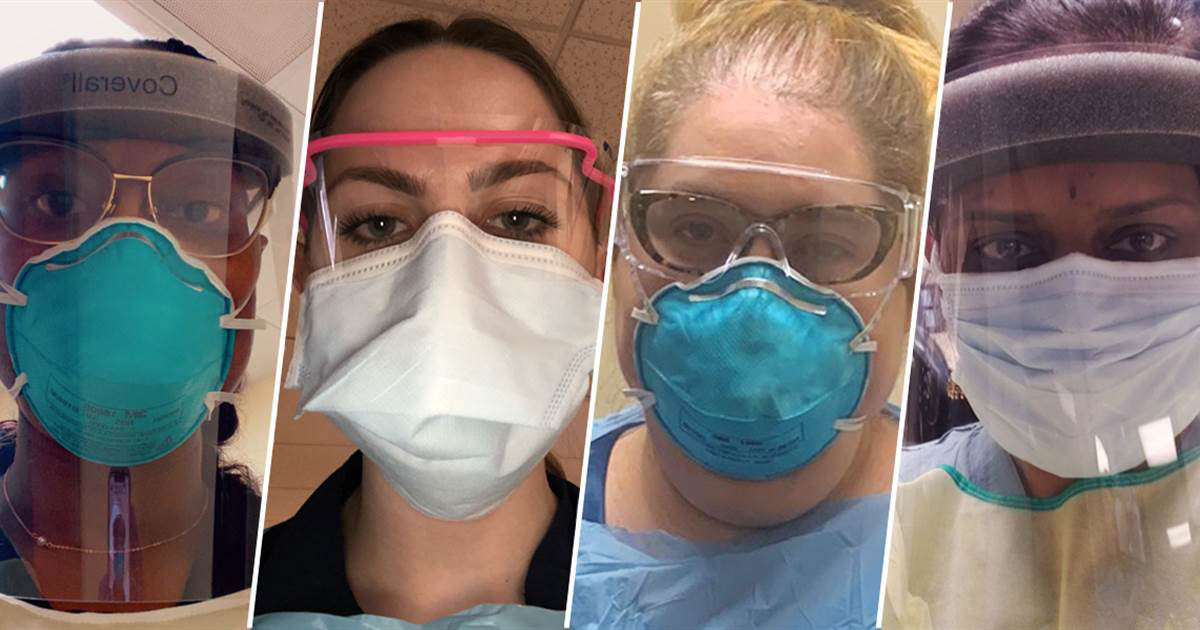Face_Shield: (1, 49, 296, 618), (943, 51, 1197, 618)
Goggles: (302, 125, 608, 313), (620, 156, 920, 313)
with_mask: (306, 202, 598, 506), (937, 224, 1198, 476), (631, 220, 879, 477), (11, 201, 245, 465)
